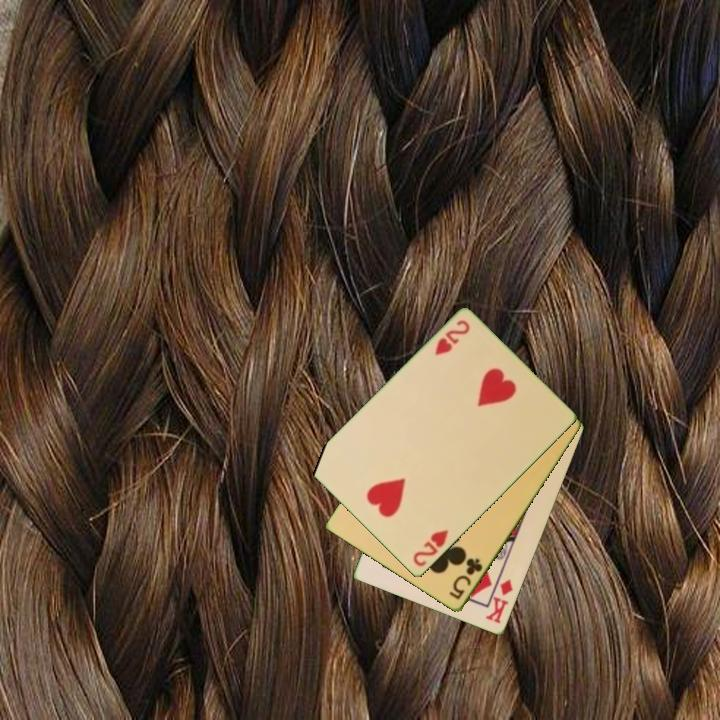2h: (409, 527, 452, 570), (431, 317, 473, 359)
5c: (445, 555, 486, 603)
Kd: (482, 576, 516, 627)
